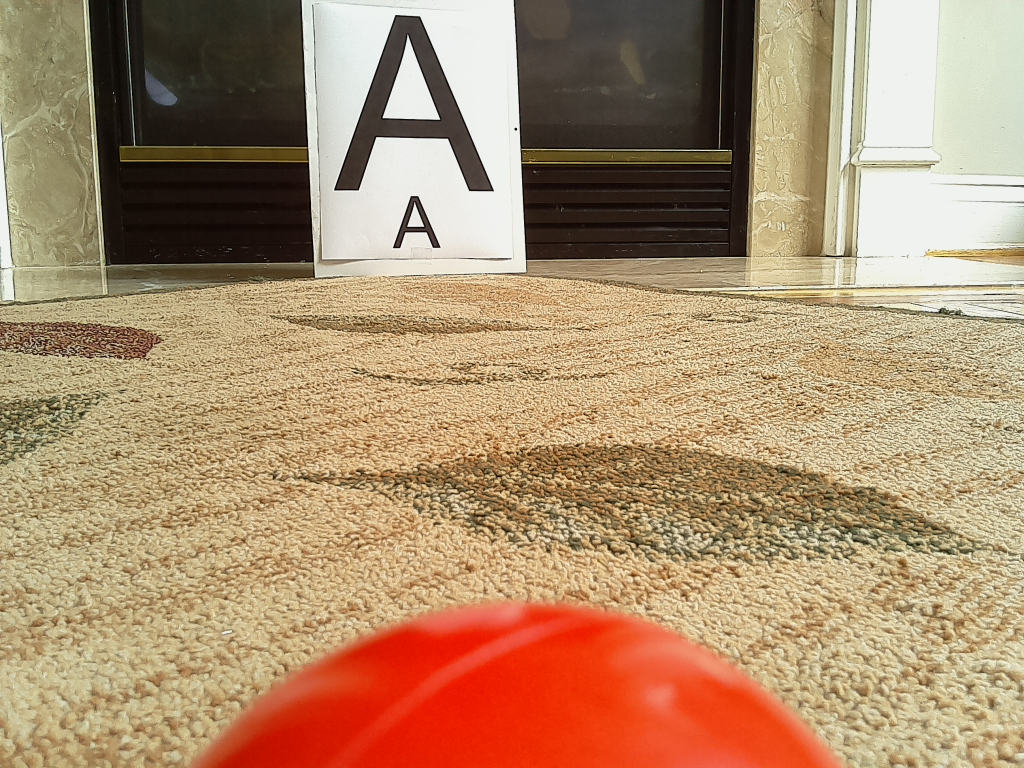letter: (335, 15, 496, 192)
